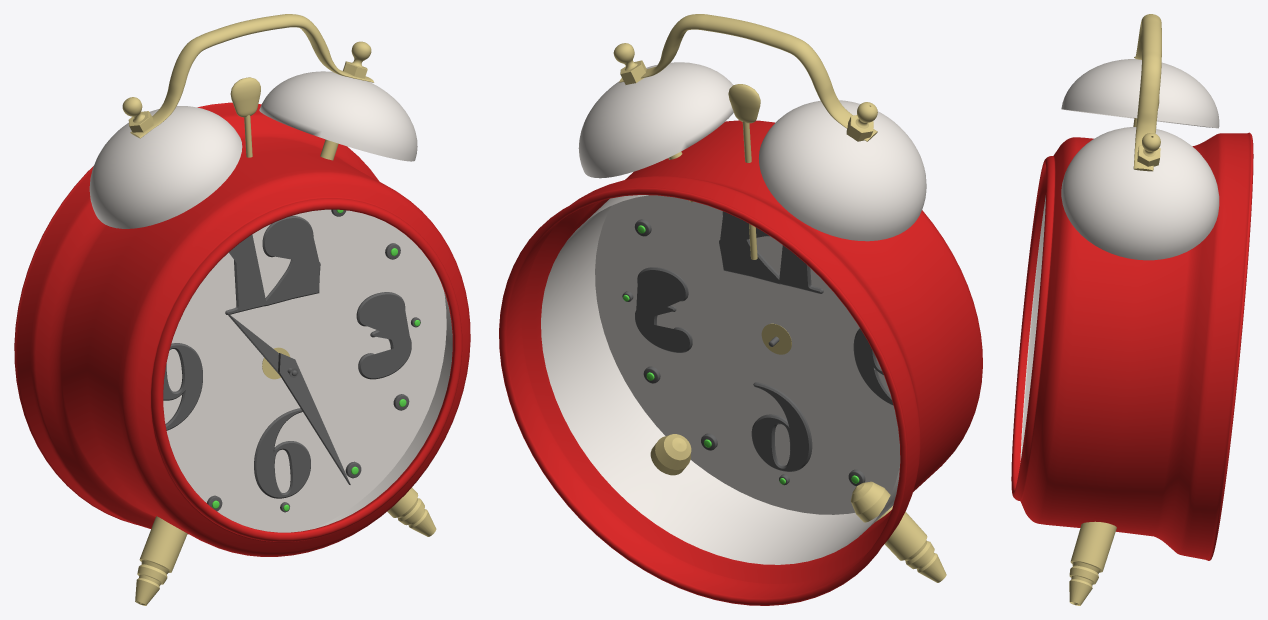
File: Alarm Clock Night.fbx
3 renders of one model, left to right at view 1: azimuth 30°, elevation 25°; view 2: azimuth 150°, elevation 25°; view 3: azimuth 270°, elevation 25°, orthographic. The views are drawn at different scales.
Visible parts, largest first — view 1: Hour_Minutes; view 2: Hour_Minutes; view 3: Hour_Minutes.
Boxes of the visible parts, x1,y1,x2,y2 form: Hour_Minutes: (14,14,470,605); Hour_Minutes: (499,14,982,605); Hour_Minutes: (1011,14,1253,605).
Size of the model in its own units: 271 by 352 by 152.
